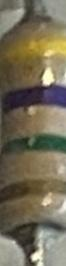Blue: (1, 84, 66, 116)
Green: (2, 134, 66, 162)
Side-Gold: (1, 178, 65, 203)
Yellow: (1, 38, 66, 63)
